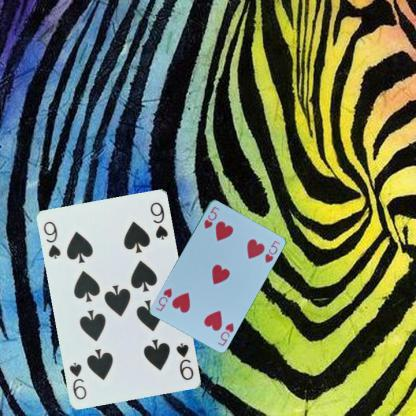5h: (201, 203, 221, 230), (215, 320, 235, 347)
9s: (174, 340, 195, 382), (41, 219, 62, 261)
